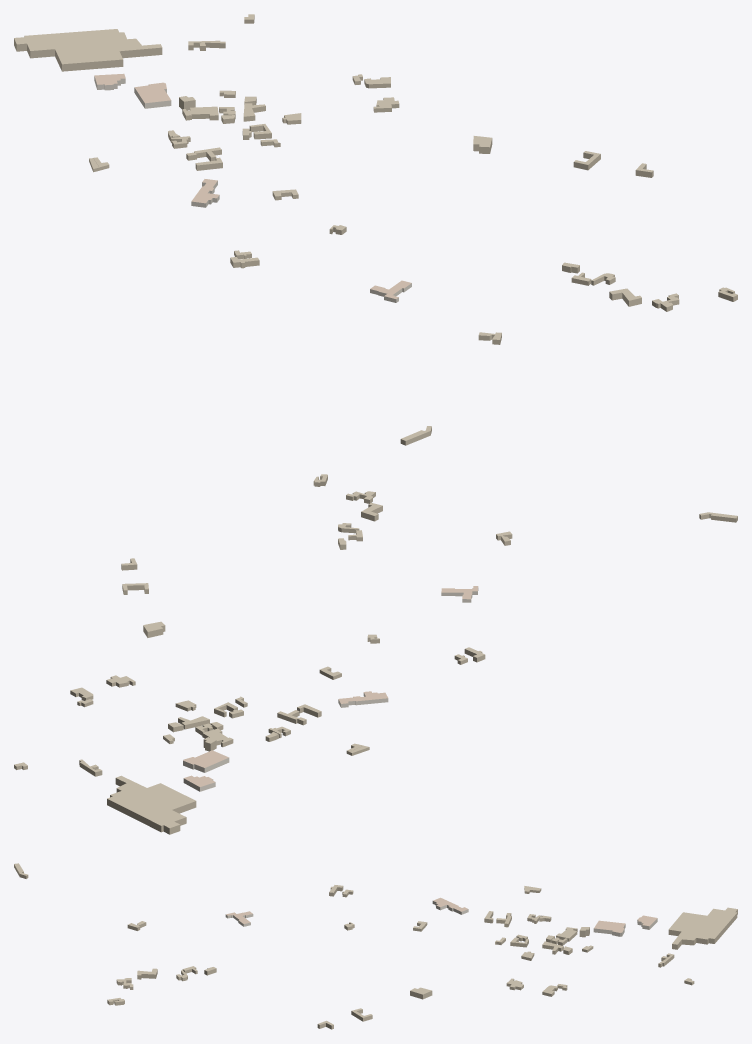
The picture shows the model from 3 angles, top to bottom: view 1: azimuth 30°, elevation 25°; view 2: azimuth 150°, elevation 25°; view 3: azimuth 270°, elevation 25°; orthographic projection. The views are drawn at different scales.
Bounding box in the file's own units: 949 × 22.17 × 1807.
